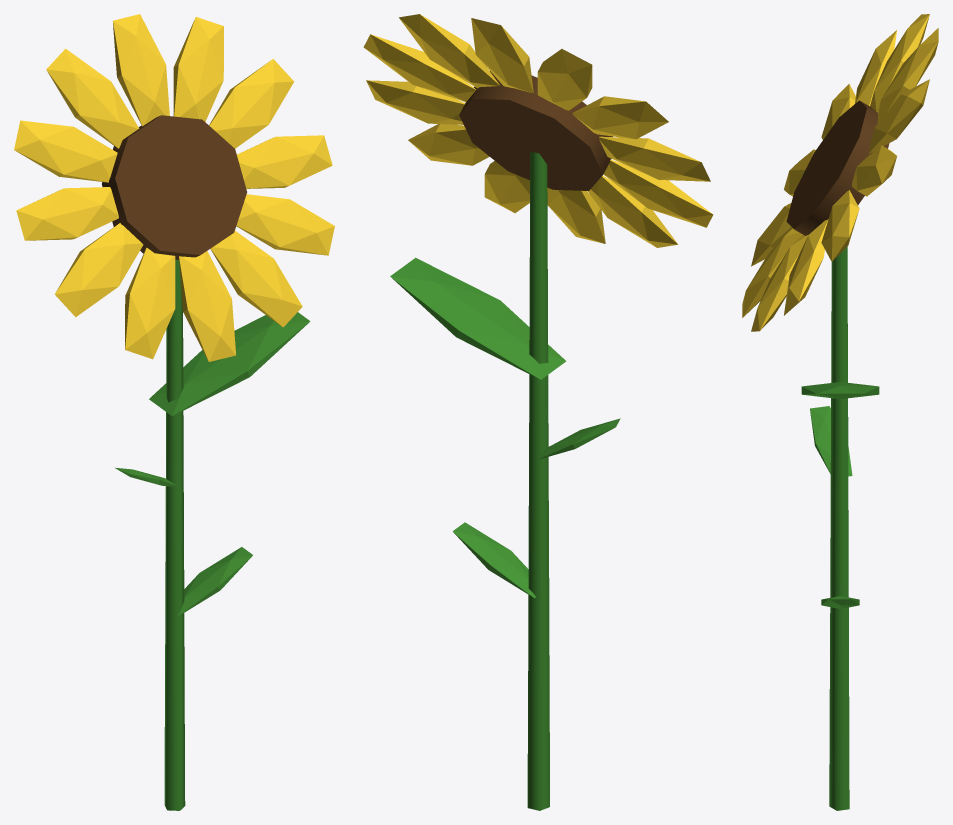
The model's file is girasol.glb.
The picture shows the model from 3 angles, left to right: view 1: azimuth 30°, elevation 25°; view 2: azimuth 150°, elevation 25°; view 3: azimuth 270°, elevation 25°; orthographic projection. The views are drawn at different scales.
Visible parts, largest first — view 1: centro, tallo, hoja_3, petalo_4, petalo_9, petalo_5, petalo_10, petalo_8, petalo_3, petalo_6, petalo_11, petalo_7 (+4 smaller); view 2: tallo, centro, hoja_3, petalo_7, petalo_11, petalo_12, petalo_6, petalo_10, petalo_8, petalo_5, petalo_1, petalo_9 (+5 smaller); view 3: tallo, centro, petalo_2, petalo_11, petalo_10, petalo_3, petalo_9, petalo_1, petalo_4, petalo_12, petalo_8, hoja_2 (+5 smaller).
Part boxes in pixels (left/top/right/bottom): centro: left=102, top=115, right=247, bottom=259; tallo: left=164, top=259, right=185, bottom=810; hoja_3: left=149, top=312, right=310, bottom=416; petalo_4: left=179, top=251, right=235, bottom=361; petalo_9: left=46, top=48, right=139, bottom=148; petalo_5: left=125, top=247, right=175, bottom=359; petalo_10: left=113, top=14, right=169, bottom=126; petalo_8: left=14, top=120, right=117, bottom=182; petalo_3: left=210, top=230, right=302, bottom=327; petalo_6: left=55, top=223, right=143, bottom=317; petalo_11: left=173, top=17, right=223, bottom=121; petalo_7: left=16, top=187, right=118, bottom=240; tallo: left=527, top=151, right=549, bottom=810; centro: left=459, top=71, right=612, bottom=190; hoja_3: left=390, top=257, right=566, bottom=379; petalo_7: left=599, top=136, right=710, bottom=181; petalo_11: left=399, top=14, right=499, bottom=88; petalo_12: left=363, top=34, right=476, bottom=102; petalo_6: left=603, top=159, right=713, bottom=227; petalo_10: left=471, top=18, right=533, bottom=93; petalo_8: left=572, top=96, right=668, bottom=139; petalo_5: left=587, top=175, right=677, bottom=247; petalo_1: left=366, top=80, right=464, bottom=124; petalo_9: left=537, top=49, right=592, bottom=110; tallo: left=829, top=246, right=849, bottom=810; centro: left=786, top=100, right=889, bottom=235; petalo_2: left=784, top=219, right=828, bottom=315; petalo_11: left=868, top=79, right=929, bottom=153; petalo_10: left=877, top=28, right=938, bottom=123; petalo_3: left=751, top=234, right=807, bottom=331; petalo_9: left=870, top=14, right=929, bottom=112; petalo_1: left=821, top=190, right=859, bottom=261; petalo_4: left=742, top=228, right=802, bottom=317; petalo_12: left=852, top=145, right=896, bottom=196; petalo_8: left=855, top=30, right=896, bottom=106; hoja_2: left=810, top=406, right=852, bottom=476.
Size of the model in its own units: 0.781 by 1.83 by 0.422.
